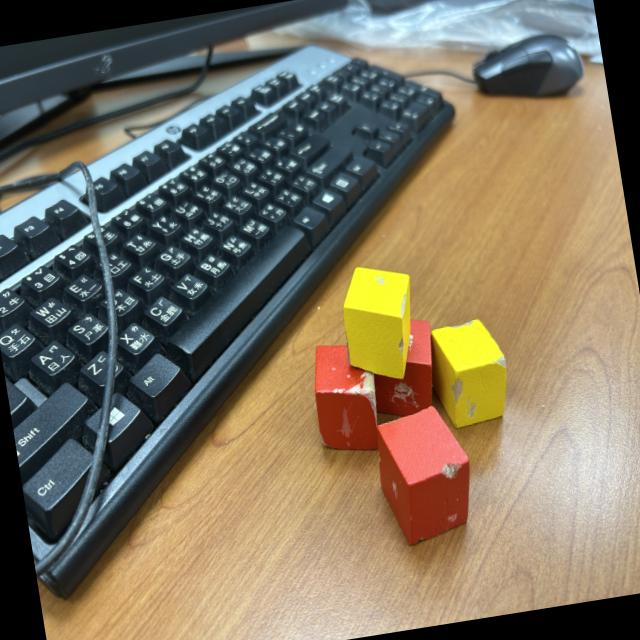broken: (369, 402, 480, 549), (334, 257, 426, 388), (424, 314, 516, 432), (306, 338, 388, 458), (362, 314, 444, 421)
